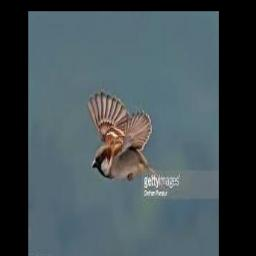Sparrow: (86, 89, 159, 183)
